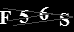5: (18, 9, 29, 24)
6: (38, 6, 50, 21)
F: (1, 10, 11, 25)
S: (58, 12, 70, 27)
